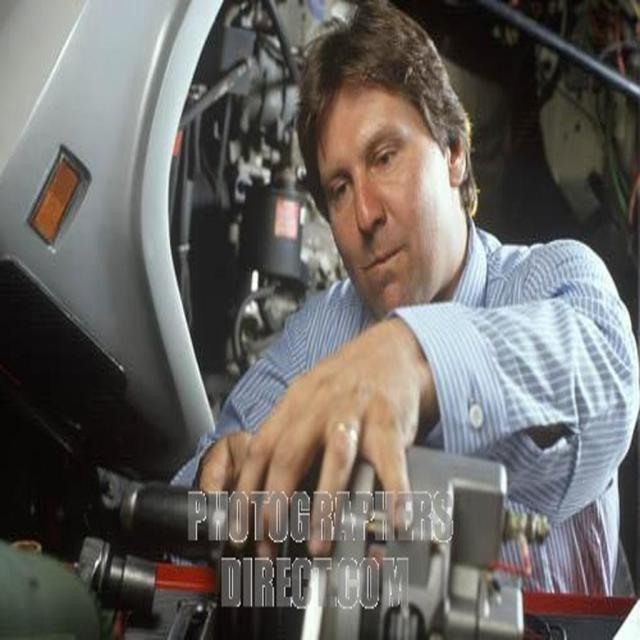Face: (304, 87, 449, 315)
